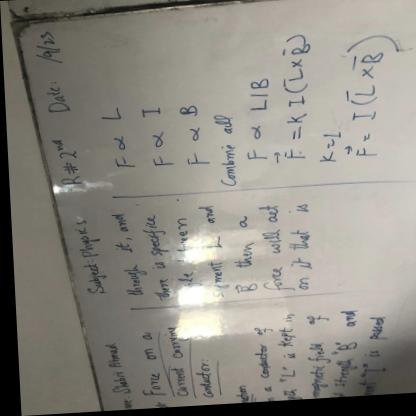Handwritten text: (98, 203, 144, 304), (131, 209, 175, 308), (63, 211, 110, 303), (162, 209, 205, 308), (189, 197, 228, 304), (252, 201, 291, 299), (278, 198, 316, 294), (320, 309, 362, 395), (293, 312, 329, 403), (154, 318, 190, 404), (206, 110, 244, 190), (125, 327, 164, 402), (229, 210, 257, 300), (92, 336, 128, 399), (358, 316, 387, 378), (272, 311, 297, 382), (248, 324, 271, 401), (37, 80, 78, 117), (243, 76, 274, 119), (188, 358, 215, 402), (135, 97, 168, 125), (178, 149, 212, 176), (95, 96, 127, 124), (175, 95, 204, 122), (238, 144, 267, 171), (143, 152, 180, 172), (107, 153, 139, 172)
